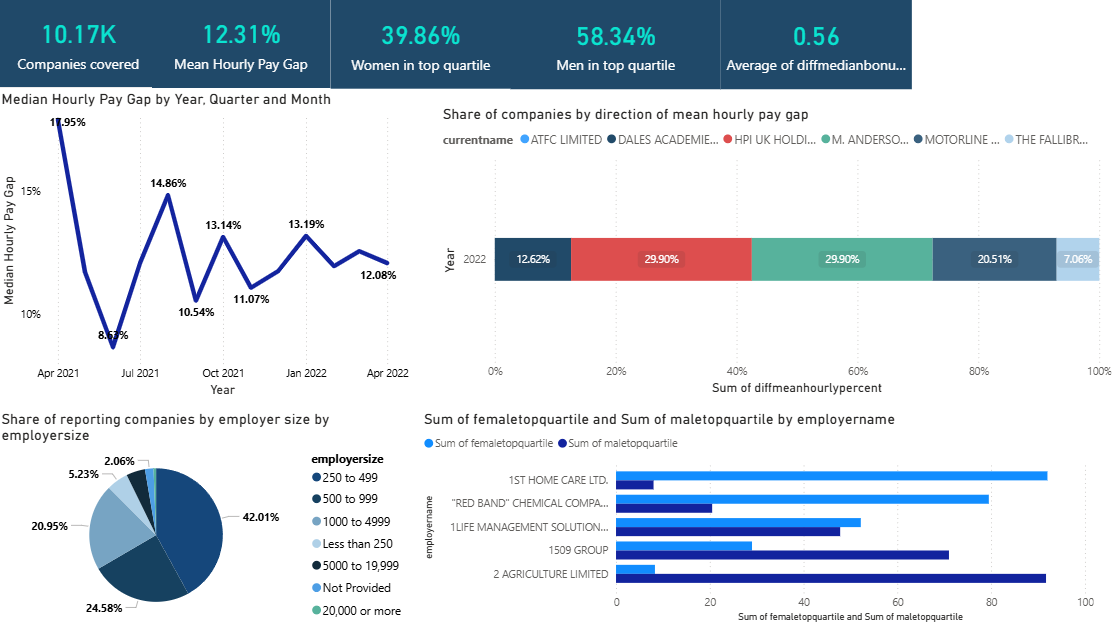

The dashboard page shown, as its layout file describes it:
{"tool":"powerbi","page":{"name":"Page 1","canvas":[1280,720],"ordinal":0},"visuals":[{"type":"card","fields":{"Values":["CountNonNull(gender pay gap data.currentname)"]},"box":[0,0,186.2,103.8],"z":0},{"type":"card","fields":{"Values":["gender pay gap data.Mean Hourly Pay Gap"]},"box":[177.5,0,203.8,103.8],"z":1000},{"type":"card","fields":{"Values":["gender pay gap data.Women in top quartile"]},"box":[381.2,0,206.2,105],"z":2000},{"type":"card","fields":{"Values":["gender pay gap data.Men in top quartile"]},"box":[587.5,1.2,240,103.8],"z":3000},{"type":"card","fields":{"Values":["Avg(gender pay gap data.diffmedianbonuspercent)"]},"box":[827.5,1.2,218.8,103.8],"z":4000},{"type":"lineChart","fields":{"Category":["gender pay gap data.datesubmitted.Variation.Date Hierarchy.Year","gender pay gap data.datesubmitted.Variation.Date Hierarchy.Quarter","gender pay gap data.datesubmitted.Variation.Date Hierarchy.Month","gender pay gap data.datesubmitted.Variation.Date Hierarchy.Day"],"Y":["gender pay gap data.Median Hourly Pay Gap"]},"box":[0,105,476.2,356.2],"z":5000},{"type":"hundredPercentStackedBarChart","title":"Share of companies by direction of mean hourly pay gap","fields":{"Category":["gender pay gap data.datesubmitted.Variation.Date Hierarchy.Year","gender pay gap data.datesubmitted.Variation.Date Hierarchy.Quarter","gender pay gap data.datesubmitted.Variation.Date Hierarchy.Month","gender pay gap data.datesubmitted.Variation.Date Hierarchy.Day"],"Y":["Sum(gender pay gap data.diffmeanhourlypercent)"],"Series":["gender pay gap data.currentname"]},"box":[504.3,122.9,775.7,337.1],"z":6000},{"type":"pieChart","fields":{"Category":["gender pay gap data.employersize"],"Y":["CountNonNull(gender pay gap data.datesubmitted)"]},"box":[0,471,476,249],"z":7000},{"type":"clusteredBarChart","fields":{"Y":["Sum(gender pay gap data.femaletopquartile)","Sum(gender pay gap data.maletopquartile)"],"Category":["gender pay gap data.employername"]},"box":[482.9,471.4,775.7,248.6],"z":8000}]}

Visuals, with their boxes in screenshot pixels (x1, y1, x2, y2), scaled from the page's 1280x720 canvas onto the 1112x623 screenshot:
card - CountNonNull(gender pay gap data.currentname): 0,0,162,90
card - gender pay gap data.Mean Hourly Pay Gap: 154,0,331,90
card - gender pay gap data.Women in top quartile: 331,0,510,91
card - gender pay gap data.Men in top quartile: 510,1,719,91
card - Avg(gender pay gap data.diffmedianbonuspercent): 719,1,909,91
lineChart - gender pay gap data.datesubmitted.Variation.Date Hierarchy.Year x gender pay gap data.datesubmitted.Variation.Date Hierarchy.Quarter: 0,91,414,399
"Share of companies by direction of mean hourly pay gap" hundredPercentStackedBarChart: 438,106,1111,398
pieChart - gender pay gap data.employersize x CountNonNull(gender pay gap data.datesubmitted): 0,408,414,622
clusteredBarChart - Sum(gender pay gap data.femaletopquartile) x Sum(gender pay gap data.maletopquartile): 420,408,1093,622
